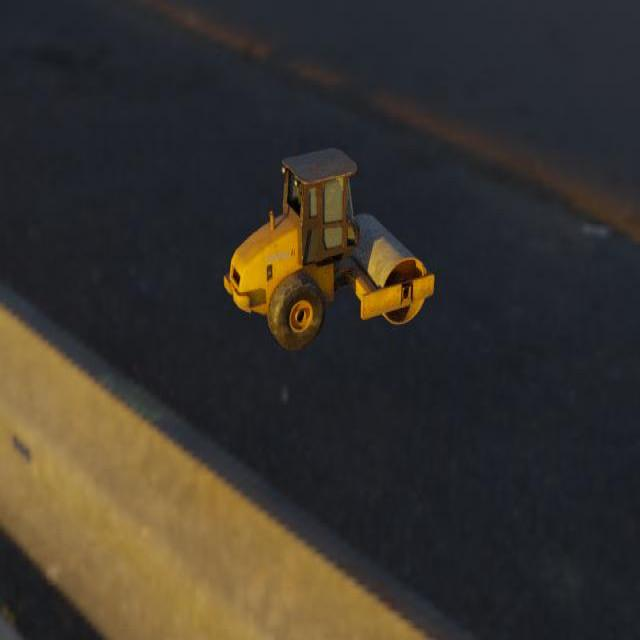Roller: (223, 147, 434, 350)
